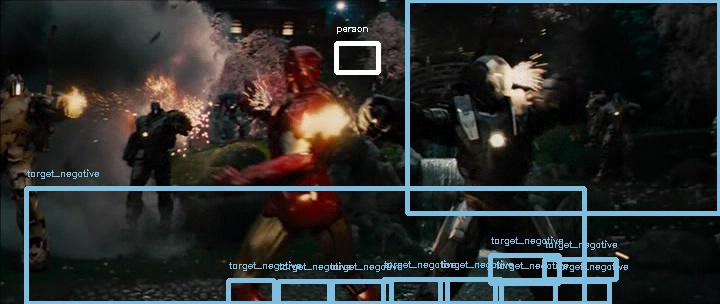person: (279, 43, 321, 92), (278, 43, 320, 92), (280, 43, 322, 92), (279, 42, 321, 91), (279, 44, 321, 93)
target_negative: (60, 75, 254, 183), (383, 180, 496, 257), (267, 32, 318, 112), (434, 88, 506, 114), (615, 93, 712, 97), (715, 49, 718, 121)
